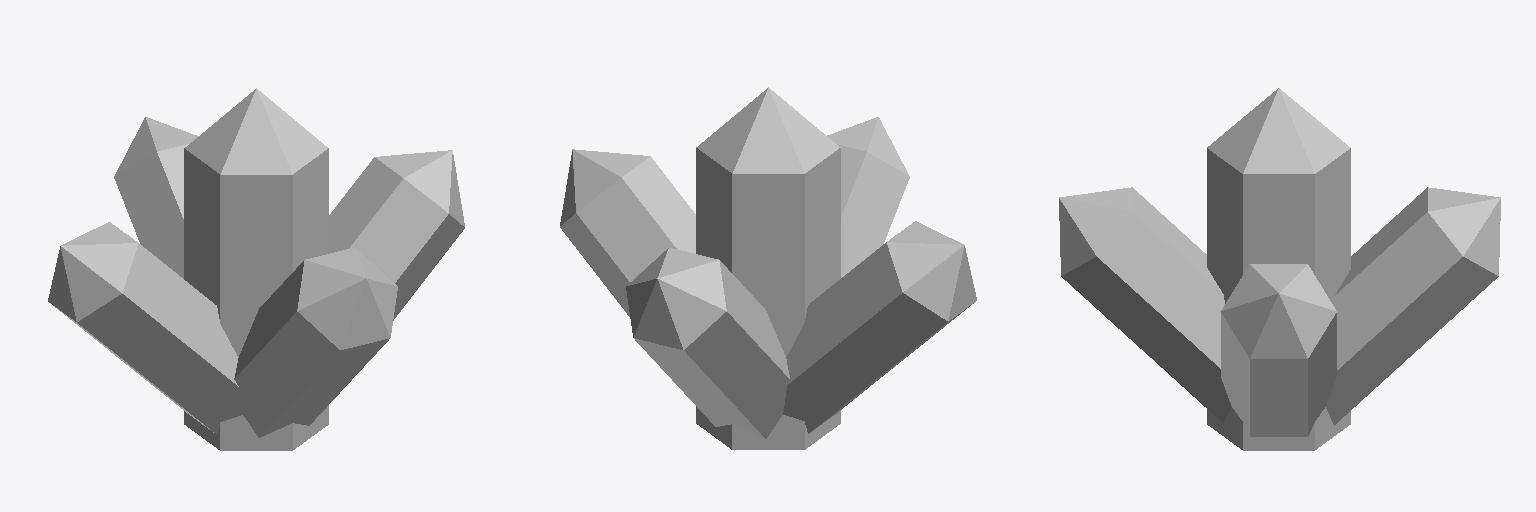
The model's file is CGG_SpaceGem.obj.
3 views of the same model, side by side, from view 1: azimuth 30°, elevation 25°; view 2: azimuth 150°, elevation 25°; view 3: azimuth 270°, elevation 25° (orthographic).
Parts seen in each view (by area): view 1: CGG_SpaceGem; view 2: CGG_SpaceGem; view 3: CGG_SpaceGem.
Boxes of the visible parts, box(x1,y1,x2,y2) form: CGG_SpaceGem: box(48, 88, 464, 450); CGG_SpaceGem: box(560, 87, 976, 449); CGG_SpaceGem: box(1059, 88, 1500, 450).
Size of the model in its own units: 19.93 by 16.34 by 19.46.